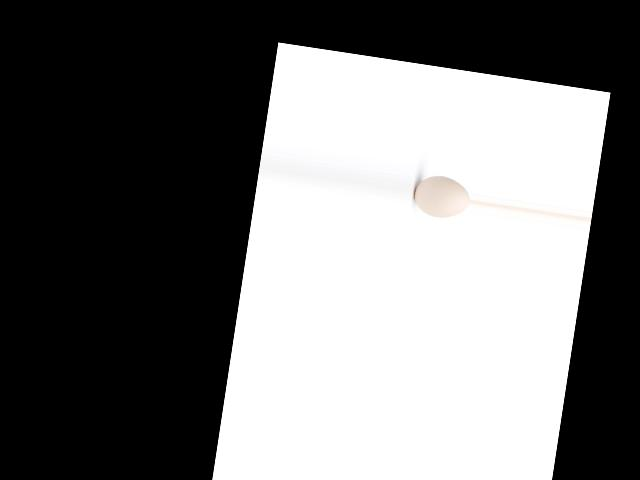egg: (411, 172, 472, 221)
